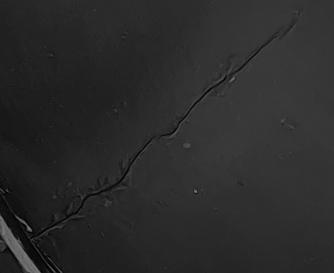crack: (1, 0, 334, 273)
